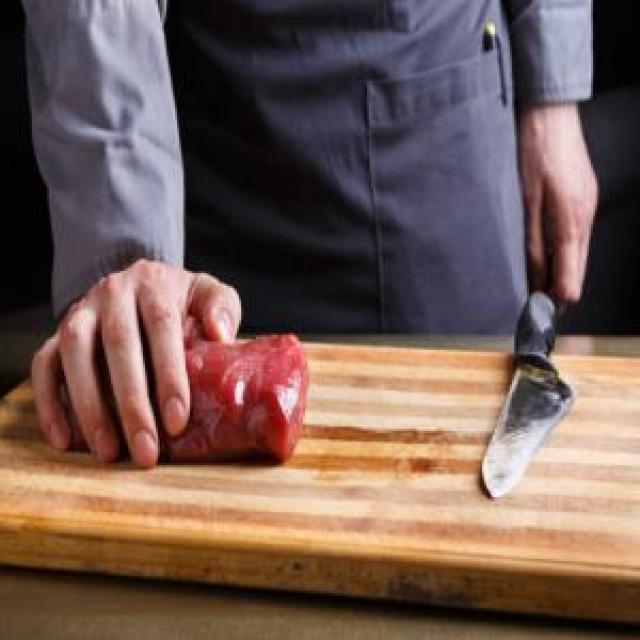knife: (478, 286, 577, 504)
